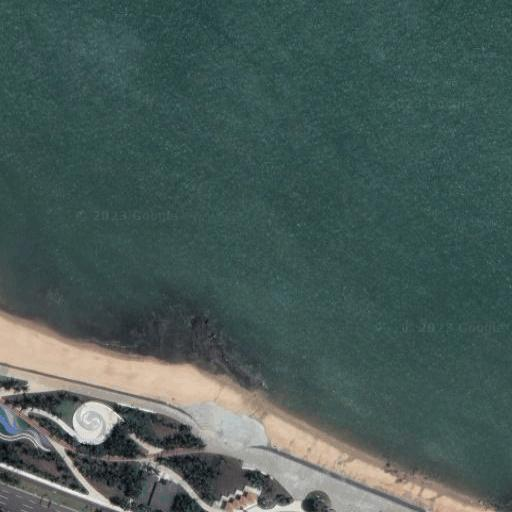building: (58, 383, 127, 452), (148, 478, 177, 512), (133, 470, 157, 506)
